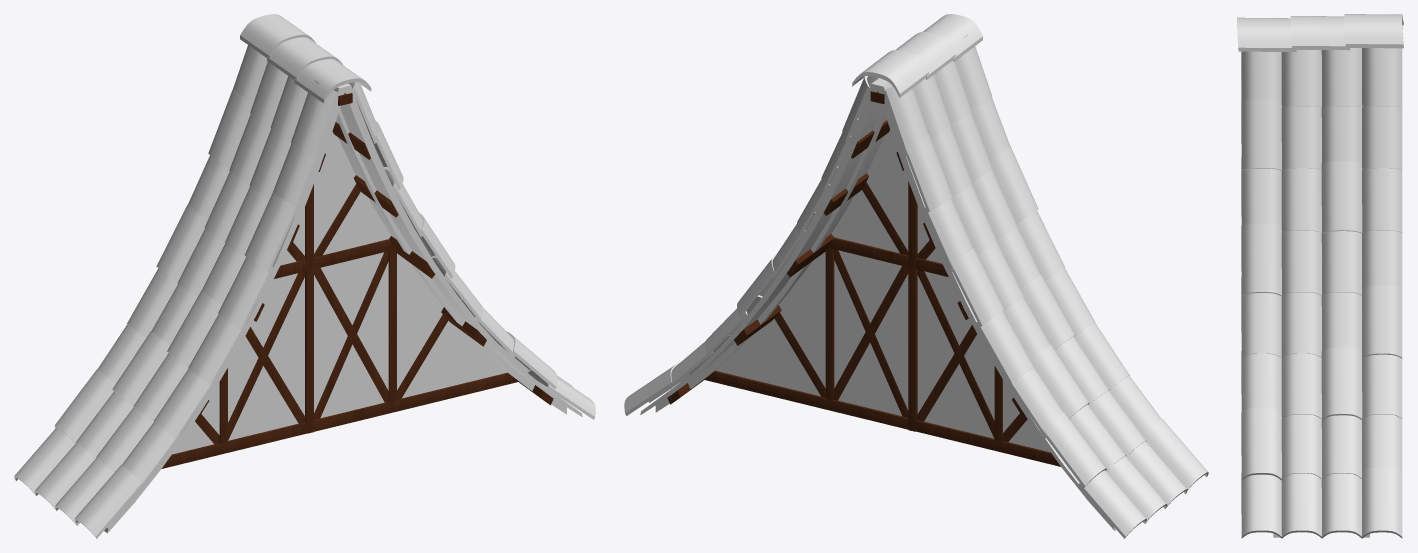
Rendered from S_Roof_Frame_Wood 1.fbx.
3 views of the same model, side by side, from view 1: azimuth 30°, elevation 25°; view 2: azimuth 150°, elevation 25°; view 3: azimuth 270°, elevation 25° (orthographic).
Parts seen in each view (by area): view 1: Cube.011, S_Roof_Frame_Wood, Cube.020, Cube.016; view 2: Cube.011, S_Roof_Frame_Wood, Cube.020, Cube.016; view 3: Cube.011.
Boxes of the visible parts, x1=… form: Cube.011: x1=14, y1=14, x2=595, y2=538; S_Roof_Frame_Wood: x1=104, y1=83, x2=582, y2=533; Cube.020: x1=161, y1=184, x2=517, y2=468; Cube.016: x1=198, y1=93, x2=553, y2=415; Cube.011: x1=624, y1=14, x2=1208, y2=538; S_Roof_Frame_Wood: x1=640, y1=78, x2=1116, y2=530; Cube.020: x1=705, y1=181, x2=1060, y2=466; Cube.016: x1=667, y1=91, x2=1023, y2=415; Cube.011: x1=1237, y1=14, x2=1403, y2=538.
Size of the model in its own units: 772 by 590 by 220.
